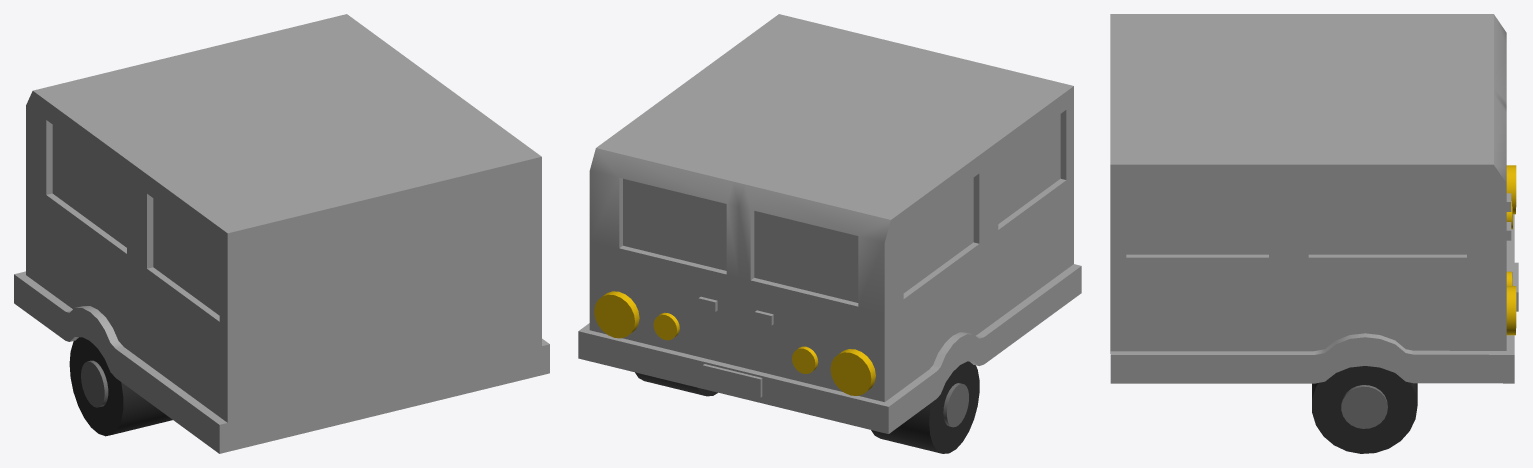
The model's file is arriere vehicule van.fbx.
The picture shows the model from 3 angles, left to right: view 1: azimuth 30°, elevation 25°; view 2: azimuth 150°, elevation 25°; view 3: azimuth 270°, elevation 25°; orthographic projection. The views are drawn at different scales.
Visible parts, largest first — view 1: arriere_vehicule_van; view 2: arriere_vehicule_van; view 3: arriere_vehicule_van.
Boxes of the visible parts, x1,y1,x2,y2 form: arriere_vehicule_van: (14, 14, 549, 453); arriere_vehicule_van: (578, 14, 1081, 453); arriere_vehicule_van: (1110, 14, 1518, 453).
Size of the model in its own units: 1.89 by 1.6 by 2.06.
